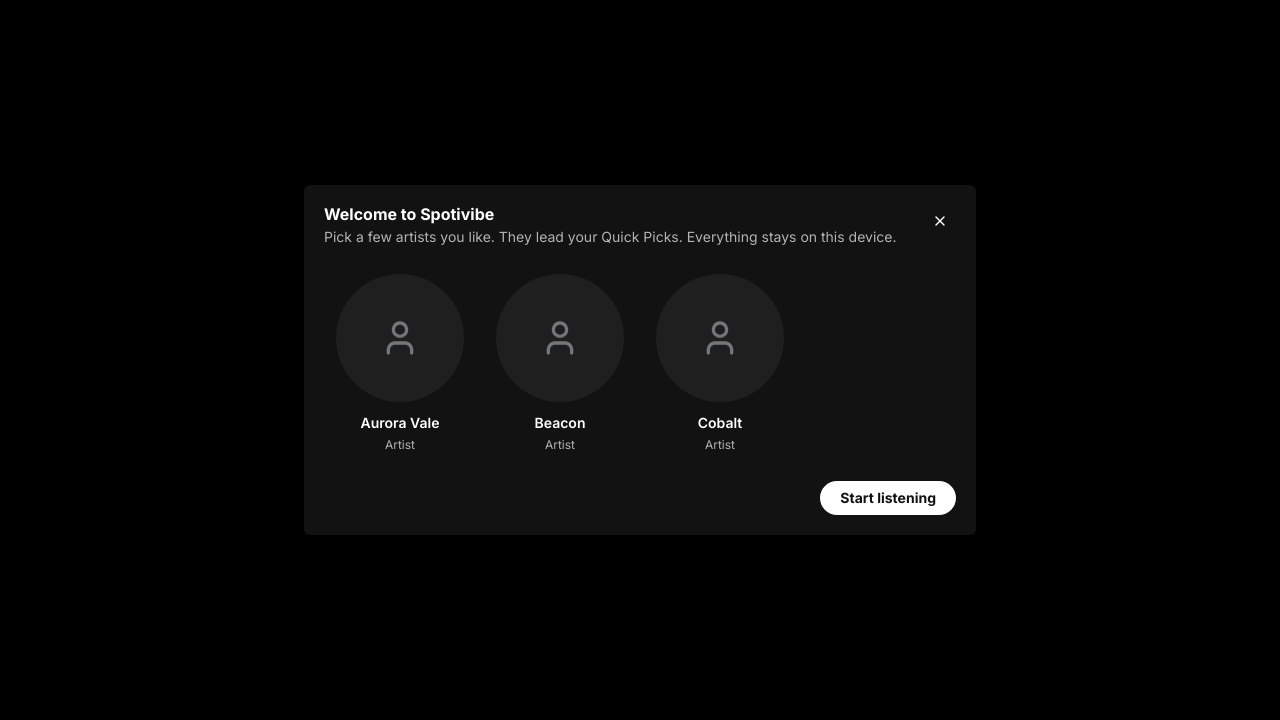
first-run artist onboarding › reports a failed write and keeps the dialog open for a retry
This screenshot has width=1280, height=720.
Click the button "Aurora Vale Artist" at (400, 364), box 324,262 -> 476,465
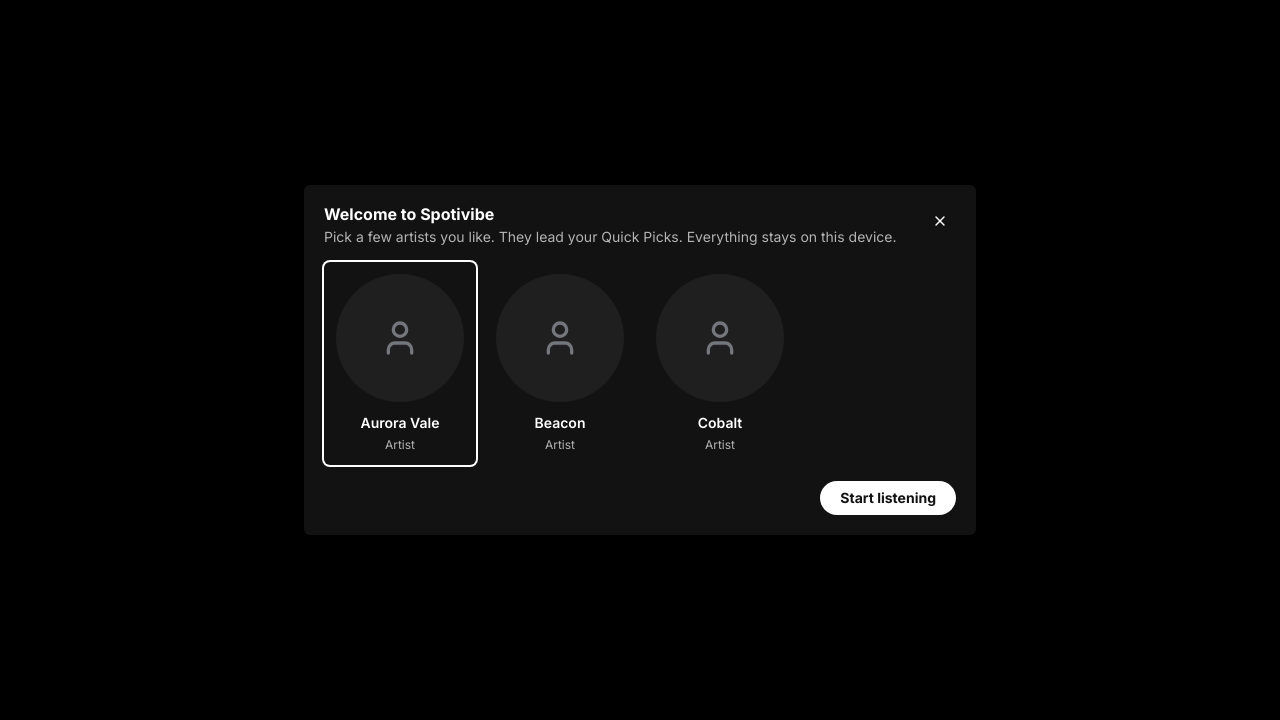
Click the button "Start listening" at (888, 498), box 820,481 -> 956,516
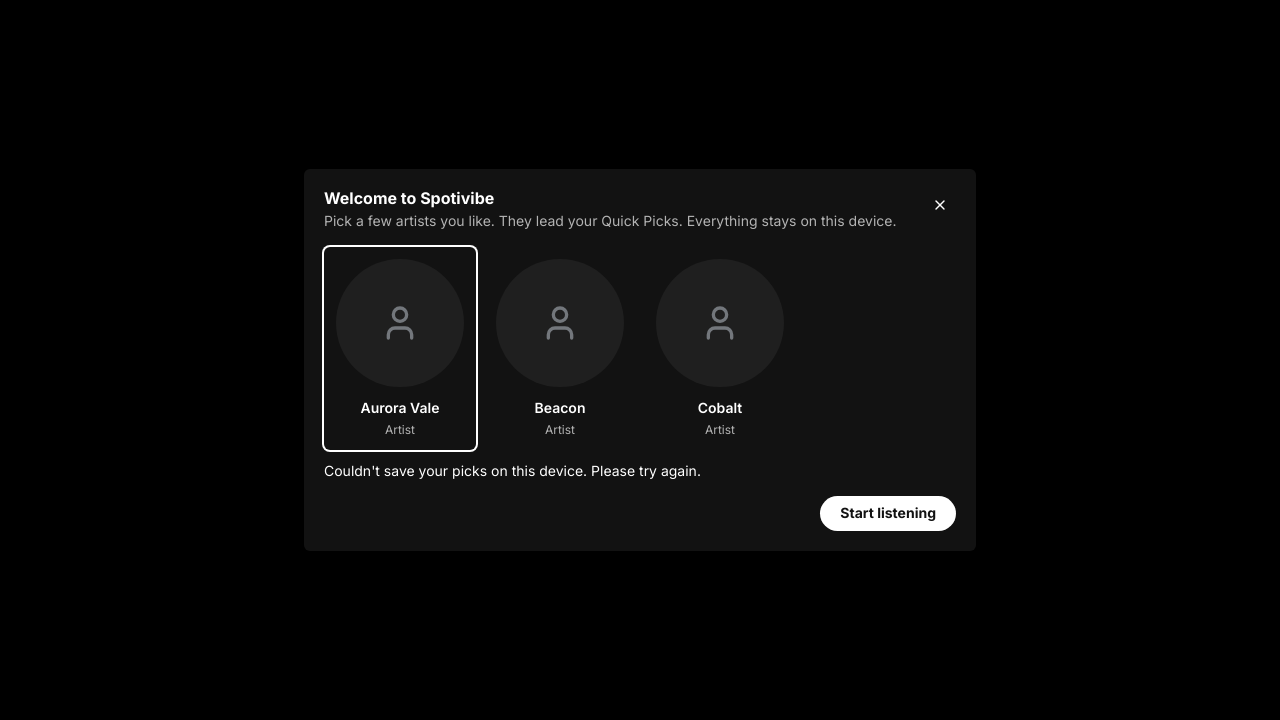
Now the message shows "Couldn't save", box 324,462 -> 701,479
